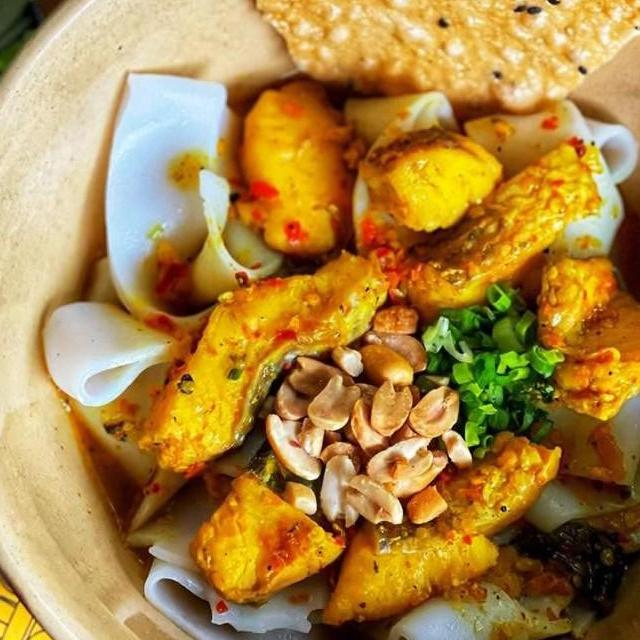banh da: (129, 0, 640, 123)
ca: (130, 248, 396, 476), (350, 130, 610, 324), (222, 71, 370, 256), (182, 468, 354, 612), (312, 514, 504, 632), (525, 249, 640, 425), (422, 419, 568, 548), (360, 120, 508, 236)
mi: (35, 62, 288, 414), (120, 493, 602, 640), (330, 82, 640, 266), (498, 330, 640, 562)
